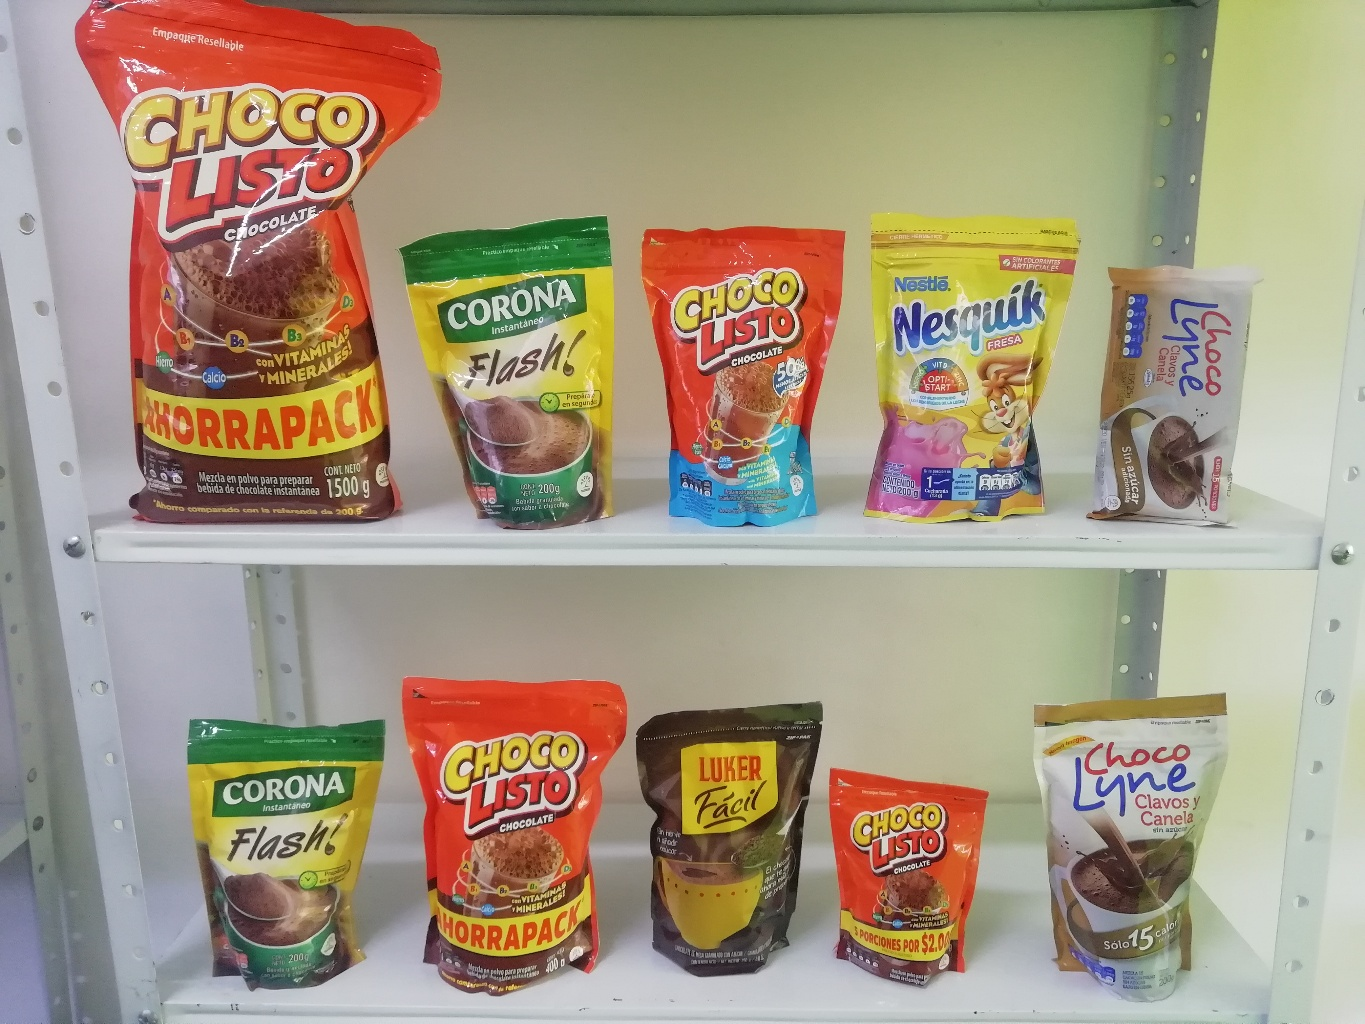COL0170103DYP1,500: (69, 3, 463, 546)
COL0170103DYP10000: (824, 768, 993, 994)
COL0170103DYP40000: (392, 656, 637, 996)
COL0170104DYP20000: (634, 216, 856, 540)
COL0170305DYP20000: (857, 199, 1084, 530)
